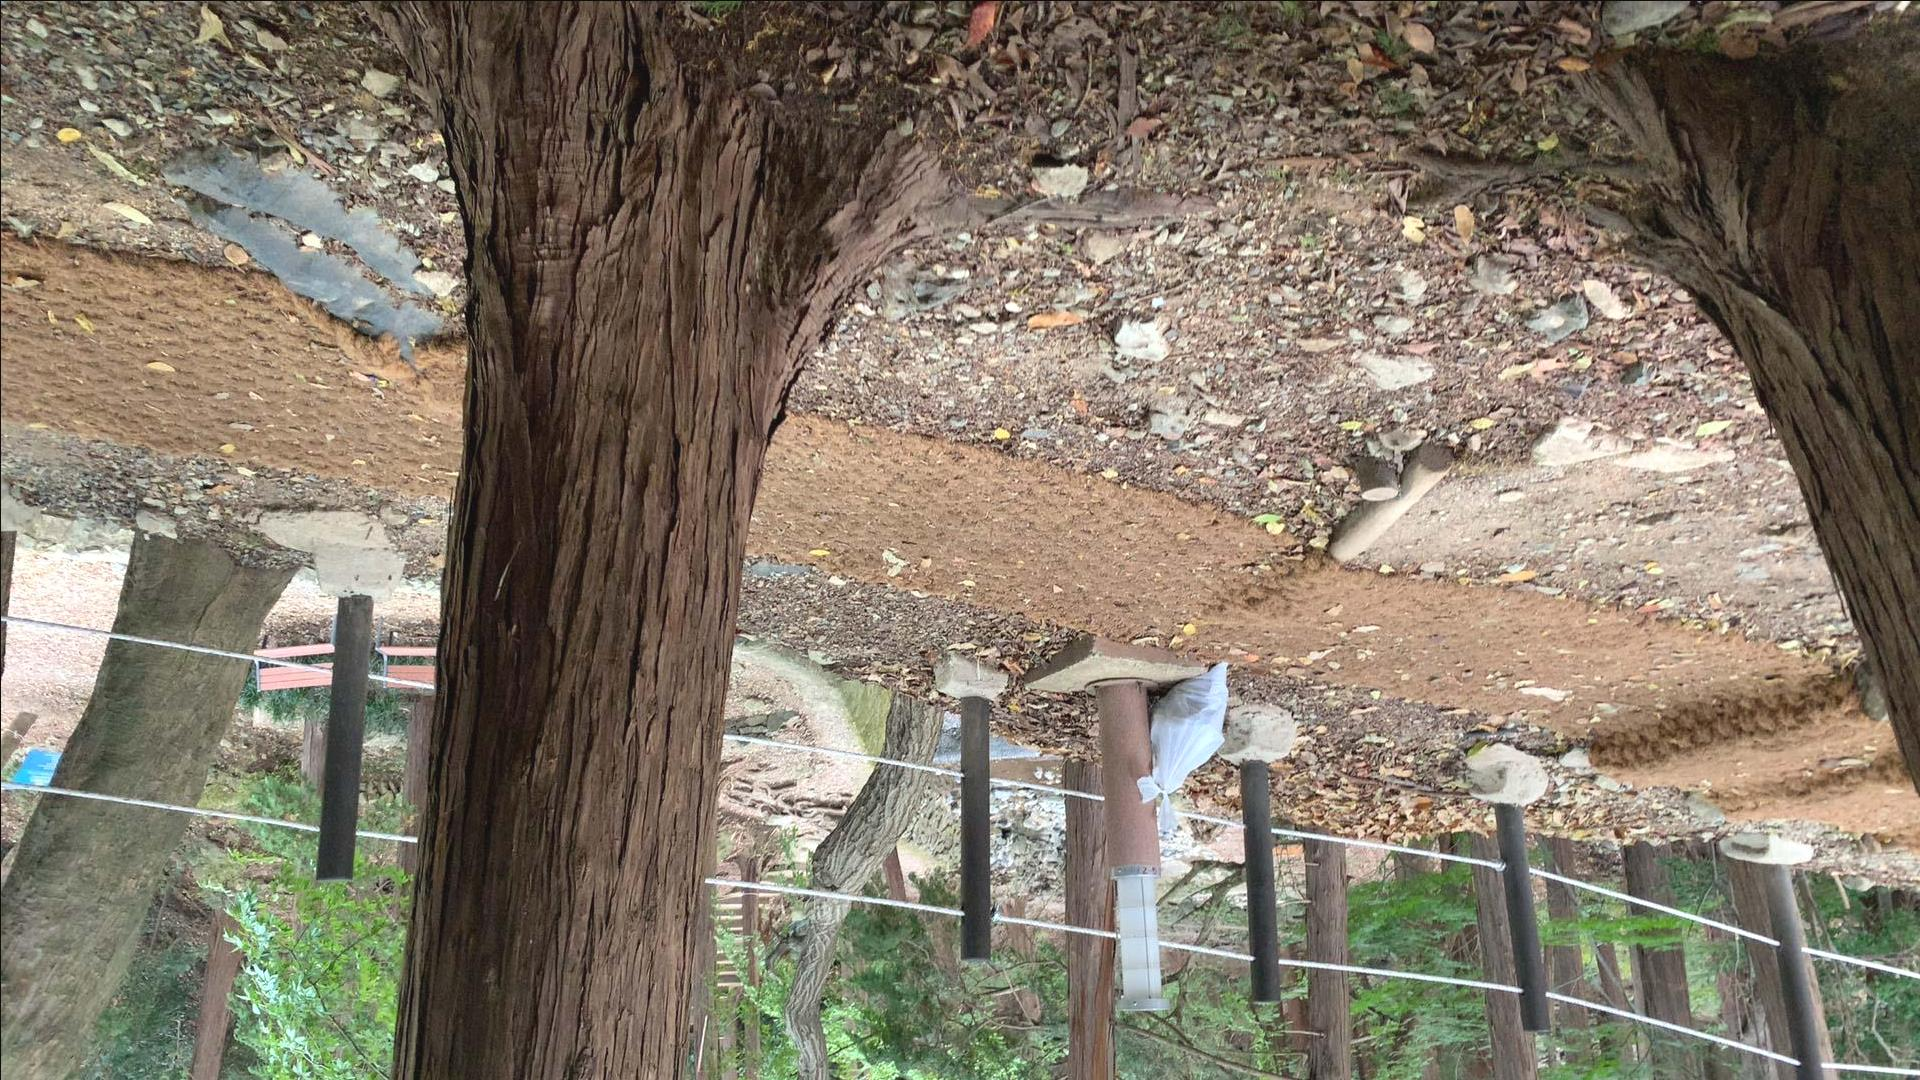white_bag: (1129, 655, 1232, 833)
